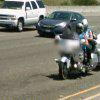Motorcycle: (43, 27, 100, 81)
